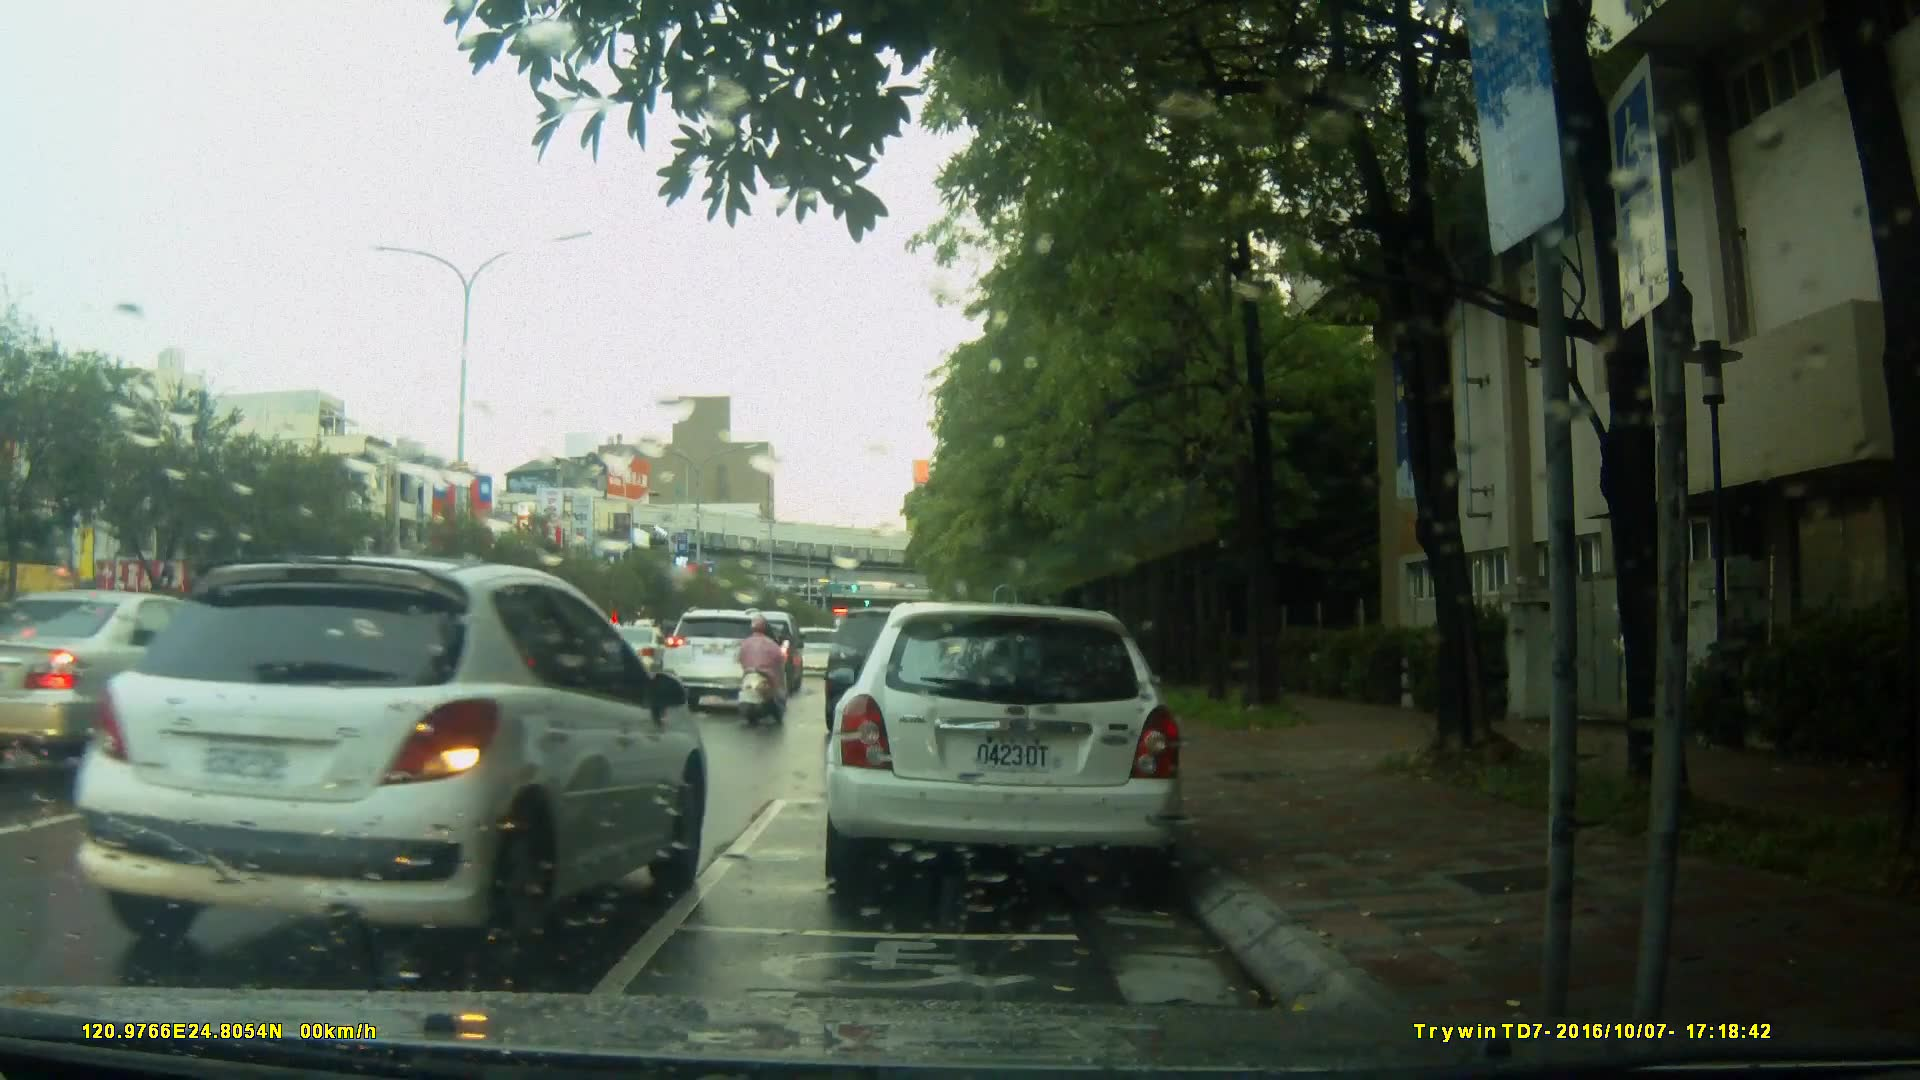rider: (731, 611, 784, 732)
vehicle: (71, 552, 708, 969), (820, 602, 1188, 898), (4, 588, 303, 775), (661, 608, 789, 716)
